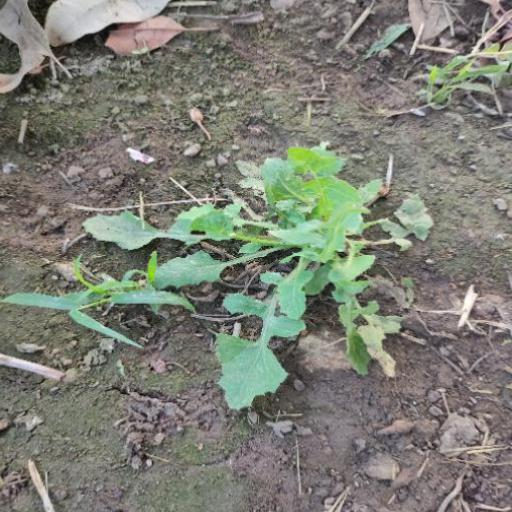weed: (73, 134, 446, 402)
